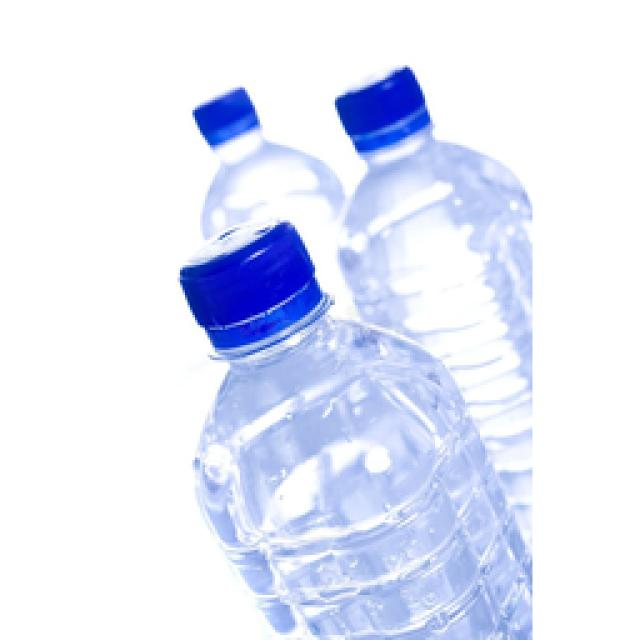plastic_water_bottles: (172, 217, 373, 618), (327, 55, 518, 212), (163, 78, 290, 197)
